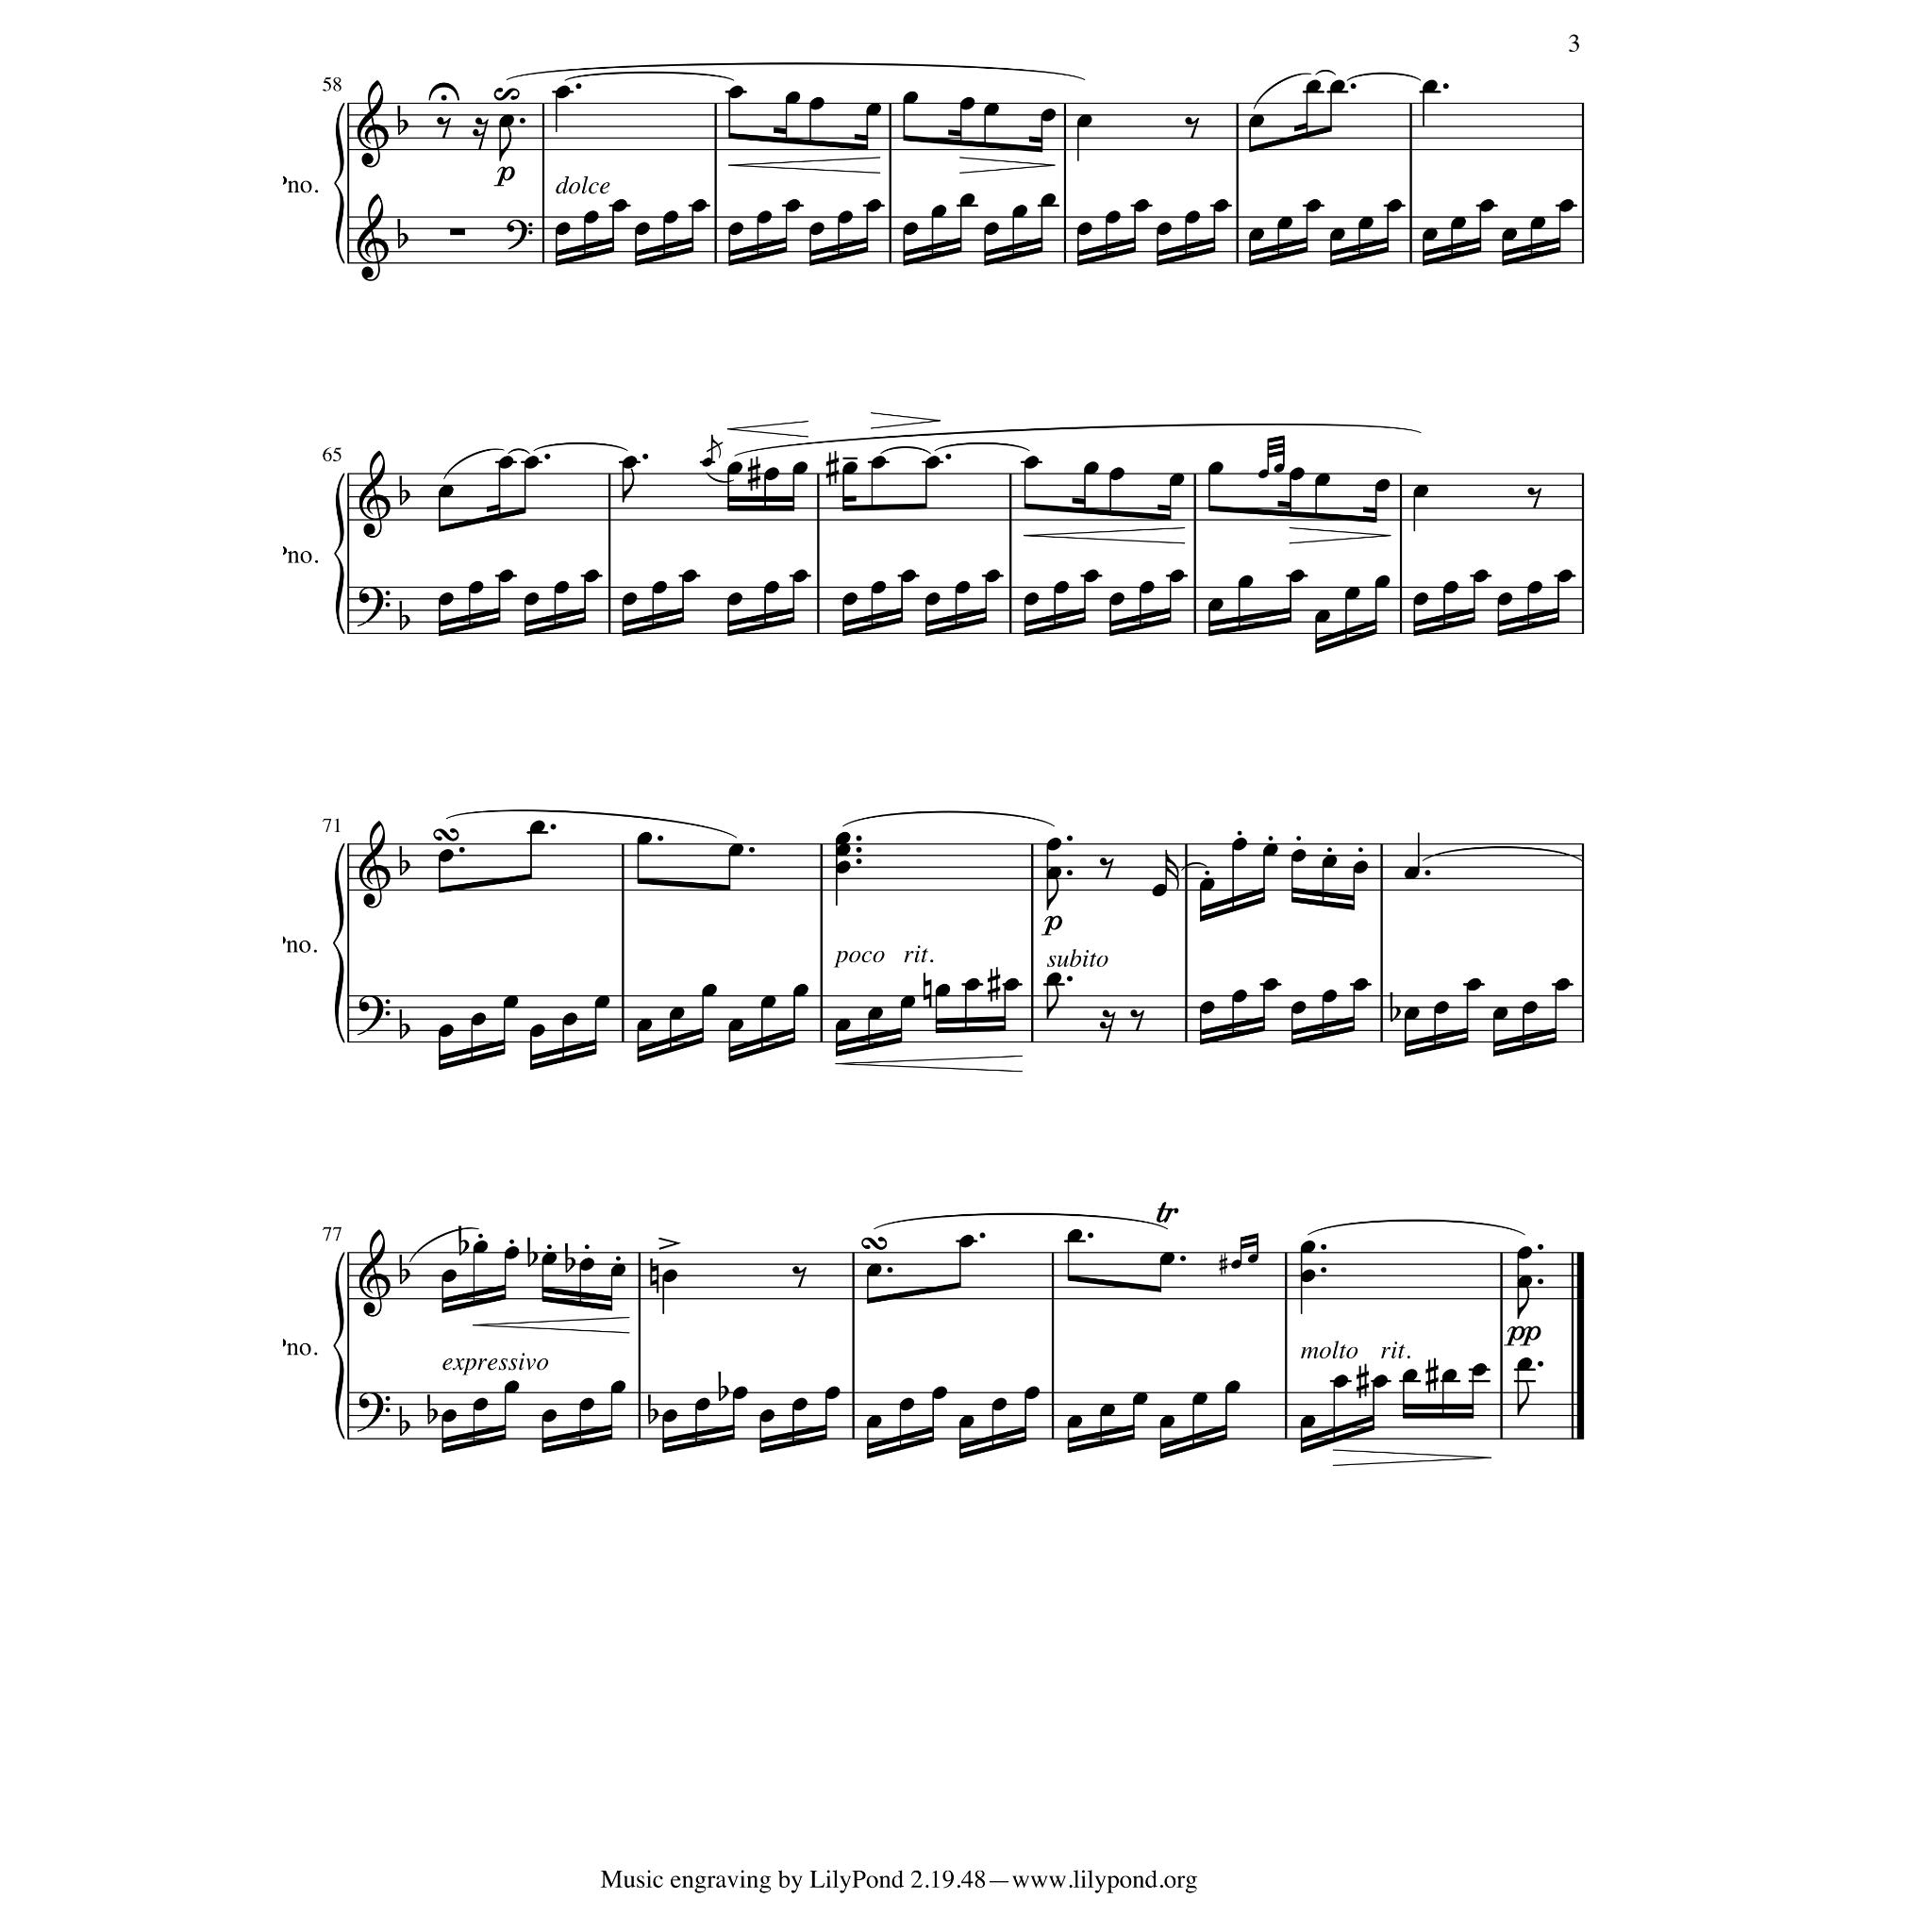brace: (332, 843, 345, 1043), (332, 1252, 345, 1441), (333, 103, 344, 265), (333, 473, 344, 635)
fClef: (357, 587, 391, 628), (357, 994, 391, 1036), (357, 1392, 391, 1432)
flag16thUp: (1166, 851, 1179, 891)
flag8thDown: (1517, 1382, 1530, 1416), (1517, 1285, 1530, 1319), (500, 126, 511, 162), (1047, 875, 1058, 911), (623, 469, 634, 503), (1047, 985, 1058, 1019)
flag8thUp: (706, 428, 723, 458)
gClef: (357, 193, 389, 282), (357, 80, 389, 169), (358, 450, 391, 539), (358, 820, 391, 908), (358, 1229, 391, 1318)
noteheadBlack: (1011, 204, 1028, 219), (902, 91, 919, 106), (930, 204, 947, 219), (621, 455, 638, 470), (523, 455, 540, 470), (924, 455, 941, 470), (870, 455, 887, 470), (1023, 455, 1040, 470), (934, 983, 951, 998), (1441, 1368, 1458, 1383), (1402, 1368, 1419, 1383), (609, 1379, 626, 1394), (1306, 79, 1321, 94), (1423, 79, 1438, 94), (1330, 79, 1345, 94), (785, 91, 800, 106), (1315, 609, 1330, 625), (498, 455, 513, 470), (702, 983, 717, 998), (792, 983, 808, 998), (1224, 1379, 1240, 1394), (1517, 1245, 1532, 1260), (504, 1379, 519, 1394), (504, 1245, 519, 1260), (1040, 193, 1057, 207), (1040, 109, 1057, 123), (662, 211, 679, 225), (691, 199, 708, 212), (498, 114, 515, 127), (902, 223, 919, 236), (958, 97, 975, 110), (958, 193, 975, 207), (983, 103, 1000, 116), (983, 223, 1000, 236), (1083, 462, 1100, 475), (1083, 570, 1100, 583), (1053, 581, 1070, 594), (1168, 474, 1185, 487), (1168, 570, 1185, 583), (1207, 462, 1224, 475), (1207, 599, 1224, 612), (1138, 581, 1155, 594), (1526, 581, 1543, 594), (1374, 479, 1391, 492), (1374, 575, 1391, 589), (1496, 592, 1513, 606), (553, 581, 570, 594), (621, 592, 638, 606), (726, 462, 743, 475), (726, 592, 743, 606), (651, 581, 668, 594), (681, 570, 698, 583), (523, 592, 540, 606), (900, 570, 917, 583), (924, 592, 941, 606), (870, 581, 887, 594), (1023, 592, 1040, 606), (841, 462, 858, 475), (762, 468, 779, 481), (762, 581, 779, 594), (841, 592, 858, 606), (1291, 1001, 1307, 1014), (1291, 849, 1307, 862), (1262, 978, 1279, 991), (1262, 843, 1279, 857), (1151, 884, 1168, 897), (1492, 1007, 1509, 1020), (1321, 990, 1338, 1003), (1321, 855, 1338, 868), (636, 1019, 653, 1032), (636, 832, 653, 845), (668, 1007, 685, 1020), (502, 995, 519, 1008), (1045, 973, 1062, 986), (1045, 838, 1062, 851), (1045, 867, 1062, 880), (834, 861, 851, 874), (834, 1019, 851, 1032), (834, 832, 851, 845), (834, 843, 851, 857), (1158, 1415, 1175, 1428), (1158, 1252, 1175, 1265), (1066, 1415, 1083, 1428), (1066, 1229, 1083, 1242), (991, 1398, 1008, 1411), (1132, 1392, 1149, 1406), (1372, 1374, 1389, 1388), (1332, 1374, 1349, 1388), (609, 1264, 626, 1277), (866, 1415, 883, 1428), (866, 1264, 883, 1277), (791, 1398, 808, 1411), (958, 1415, 975, 1428), (958, 1235, 975, 1248), (898, 1398, 915, 1411), (694, 1398, 711, 1411), (758, 1409, 775, 1423), (1249, 114, 1264, 127), (1249, 228, 1264, 241), (1213, 199, 1228, 212), (1306, 199, 1321, 212), (1277, 217, 1292, 230), (1077, 223, 1092, 236), (1077, 114, 1092, 127), (1185, 211, 1200, 225), (1157, 223, 1172, 236), (1134, 199, 1149, 212), (1106, 211, 1121, 225), (1558, 199, 1574, 212), (1530, 217, 1545, 230), (1502, 228, 1517, 241), (1423, 228, 1438, 241), (1387, 199, 1402, 212), (1358, 217, 1374, 230), (1330, 228, 1345, 241), (1479, 199, 1494, 212), (1451, 217, 1466, 230), (634, 223, 649, 236), (611, 199, 626, 212), (583, 211, 598, 225), (728, 223, 743, 236), (728, 86, 743, 99), (555, 86, 570, 99), (555, 223, 570, 236), (866, 199, 881, 212), (866, 103, 881, 116), (809, 97, 824, 110), (785, 199, 800, 212), (757, 211, 772, 225), (838, 211, 853, 225), (809, 223, 824, 236), (1315, 474, 1330, 487), (1290, 570, 1305, 583), (1290, 468, 1305, 481), (1238, 575, 1253, 589), (1109, 468, 1124, 481), (1109, 592, 1124, 606), (1557, 570, 1572, 583), (1413, 485, 1428, 498), (1413, 592, 1428, 606), (1345, 587, 1360, 600), (1474, 570, 1489, 583), (1443, 581, 1458, 594), (584, 570, 599, 583), (438, 485, 453, 498), (438, 592, 453, 606), (498, 570, 513, 583), (468, 581, 483, 594), (985, 570, 1000, 583), (955, 581, 970, 594), (792, 570, 808, 583), (792, 462, 808, 475), (1232, 838, 1247, 851), (1232, 990, 1247, 1003), (1200, 1001, 1215, 1014), (1200, 878, 1215, 891), (1523, 1001, 1538, 1014), (1555, 978, 1570, 991), (1466, 978, 1481, 991), (1353, 861, 1368, 874), (1404, 1007, 1419, 1020), (1404, 867, 1419, 880), (1353, 978, 1368, 991), (1434, 1001, 1449, 1014), (594, 995, 609, 1008), (562, 1013, 577, 1026), (438, 1024, 453, 1038), (438, 849, 453, 862), (529, 1024, 544, 1038), (529, 821, 544, 834), (471, 1013, 486, 1026), (900, 995, 915, 1008), (868, 1007, 883, 1020), (1004, 978, 1019, 991), (964, 978, 979, 991), (760, 995, 775, 1008), (728, 1019, 743, 1032), (728, 843, 743, 857), (1192, 1392, 1207, 1406), (1300, 1270, 1315, 1283), (1300, 1241, 1315, 1254), (1300, 1415, 1315, 1428), (1024, 1387, 1040, 1400), (1100, 1404, 1115, 1417), (1517, 1357, 1532, 1371), (1517, 1275, 1532, 1289), (1472, 1363, 1487, 1376), (579, 1398, 594, 1411), (579, 1257, 594, 1271), (541, 1409, 557, 1423), (541, 1252, 557, 1265), (662, 1409, 677, 1423), (441, 1409, 457, 1423), (441, 1270, 457, 1283), (662, 1270, 677, 1283), (473, 1398, 488, 1411), (473, 1241, 488, 1254), (824, 1387, 840, 1400), (932, 1387, 947, 1400), (732, 1387, 747, 1400), (702, 457, 713, 468), (1230, 1258, 1241, 1270), (1274, 464, 1285, 474), (1257, 470, 1269, 479), (1247, 1254, 1258, 1263)
rest16th: (472, 117, 489, 151), (1099, 1009, 1116, 1043)
rest8th: (1184, 117, 1199, 140), (436, 117, 451, 140), (1527, 488, 1542, 510), (1099, 858, 1114, 880), (1130, 1009, 1145, 1032), (791, 1266, 807, 1289)
restWhole: (449, 228, 466, 236)
